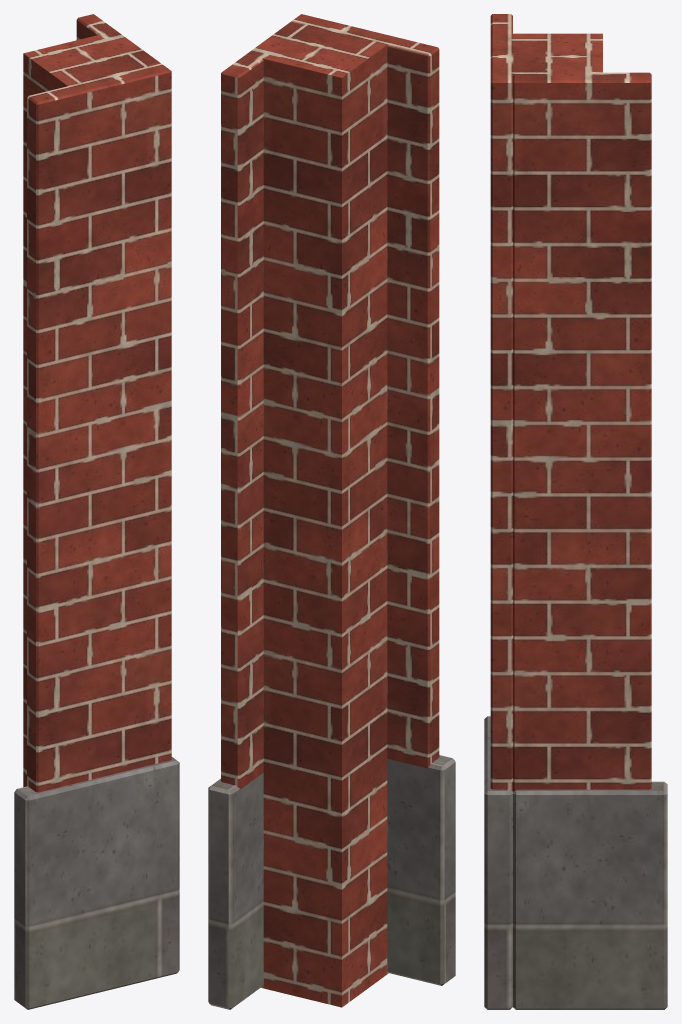
The model's file is o_corner_g.glb.
3 renders of one model, left to right at view 1: azimuth 30°, elevation 25°; view 2: azimuth 150°, elevation 25°; view 3: azimuth 270°, elevation 25°, orthographic. The views are drawn at different scales.
Visible parts, largest first — view 1: o_corner_g_brick, o_corner_g_plinth; view 2: o_corner_g_brick, o_corner_g_plinth; view 3: o_corner_g_brick, o_corner_g_plinth.
Part boxes in pixels (x1=…): o_corner_g_brick: x1=23, y1=14, x2=171, y2=792; o_corner_g_plinth: x1=14, y1=757, x2=179, y2=1009; o_corner_g_brick: x1=221, y1=14, x2=439, y2=1007; o_corner_g_plinth: x1=208, y1=755, x2=455, y2=1009; o_corner_g_brick: x1=490, y1=14, x2=651, y2=791; o_corner_g_plinth: x1=484, y1=716, x2=667, y2=1009.
Bounding box in the file's own units: 0.58 × 3.24 × 0.58.
2 materials, 2 textured.
